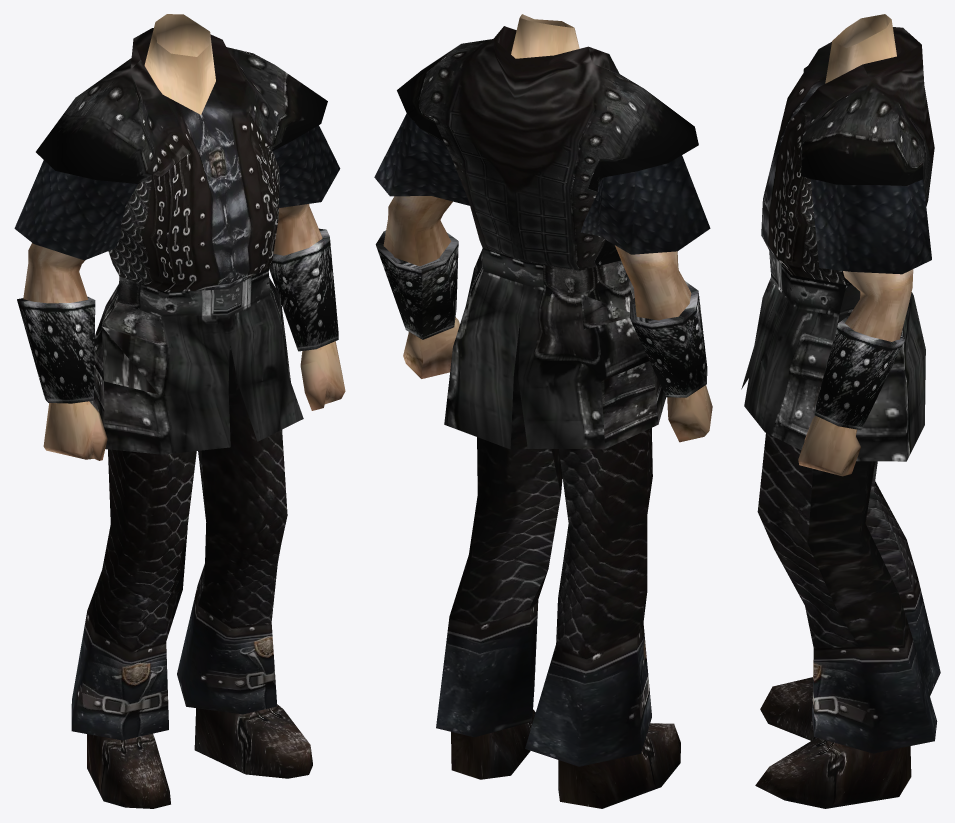
File: ARMOR_VAMP_FIST_1.glb
The picture shows the model from 3 angles, left to right: view 1: azimuth 30°, elevation 25°; view 2: azimuth 150°, elevation 25°; view 3: azimuth 270°, elevation 25°; orthographic projection. The views are drawn at different scales.
Visible parts, largest first — view 1: ARMOR_VAMP_FIST_1; view 2: ARMOR_VAMP_FIST_1; view 3: ARMOR_VAMP_FIST_1.
Boxes of the visible parts, <box> form: ARMOR_VAMP_FIST_1: <box>14,14,345,808</box>; ARMOR_VAMP_FIST_1: <box>374,14,712,808</box>; ARMOR_VAMP_FIST_1: <box>741,14,940,808</box>.
Size of the model in its own units: 0.7288 by 1.69 by 0.4101.
Materials: 3 (3 with a texture image).
